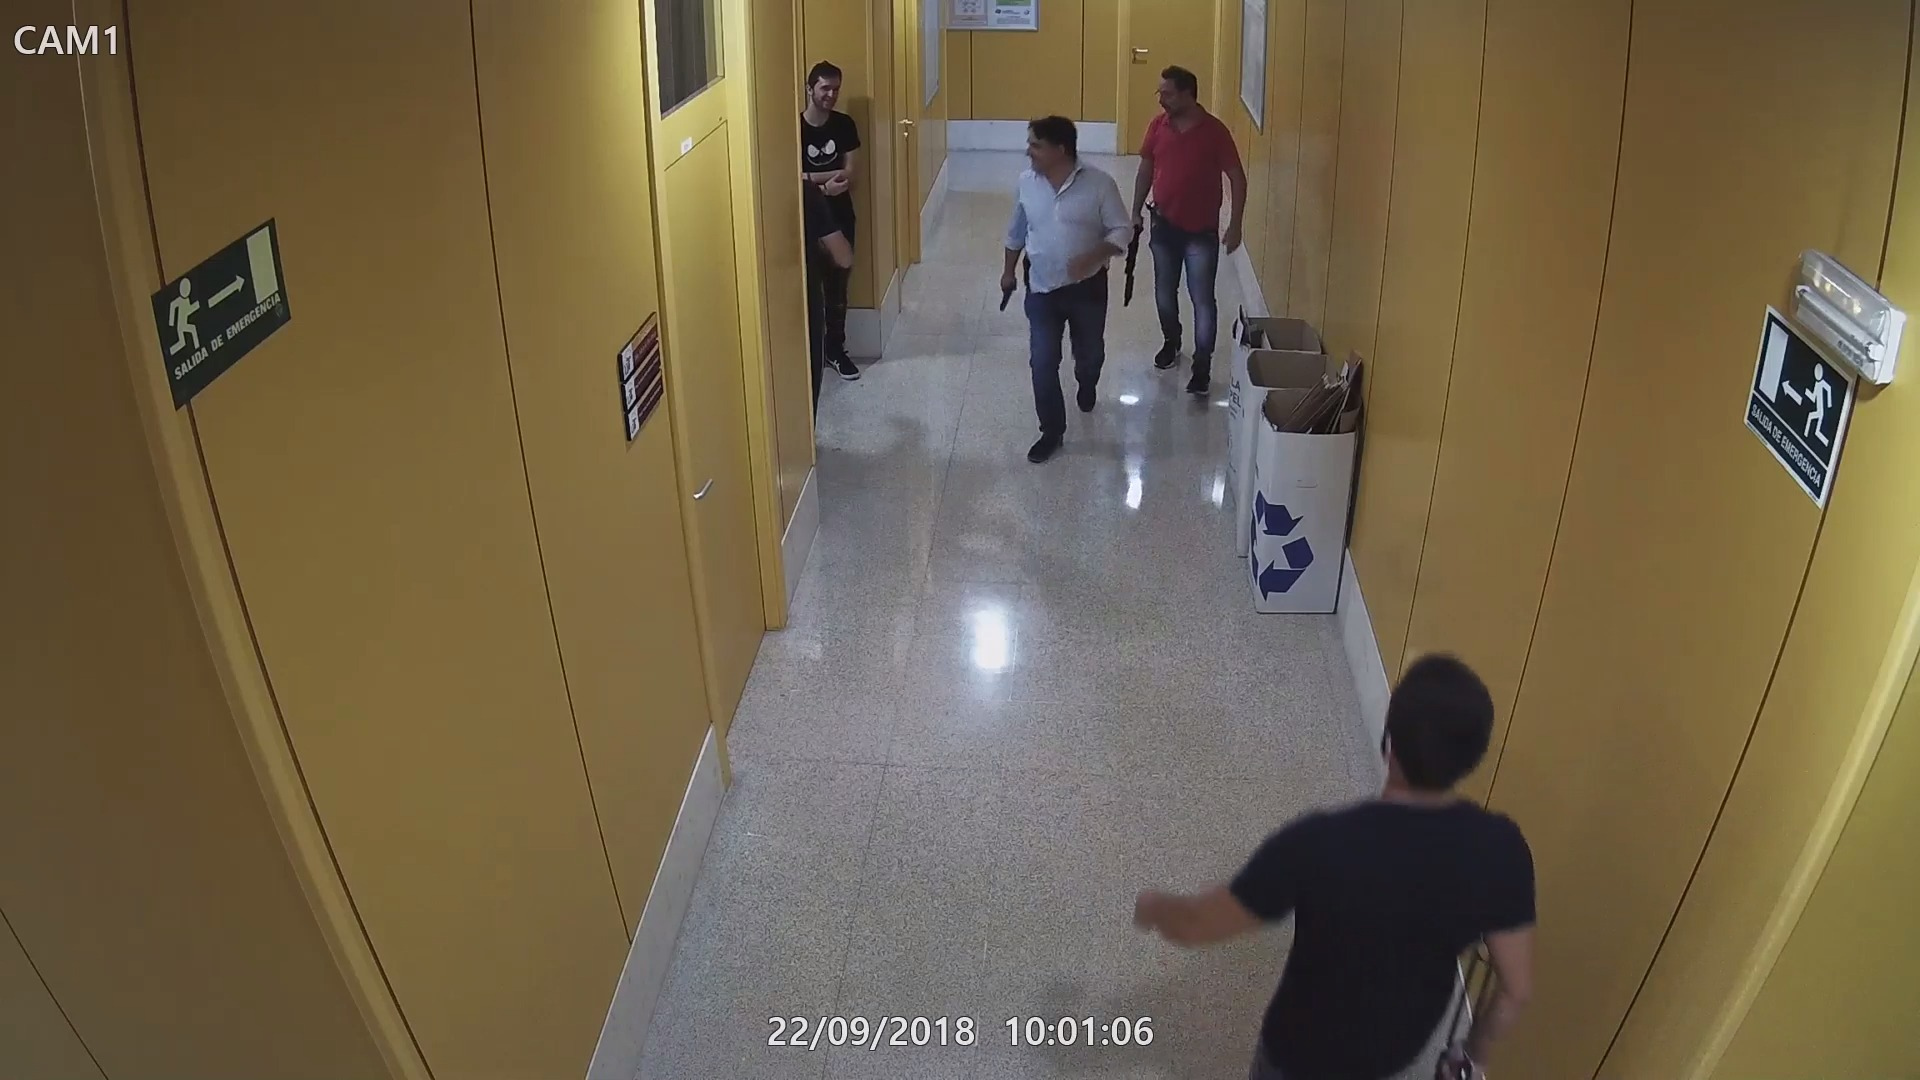Handgun: (993, 272, 1023, 314), (1146, 199, 1172, 243)
Short_rifle: (1433, 934, 1510, 1079), (1117, 211, 1141, 310)
